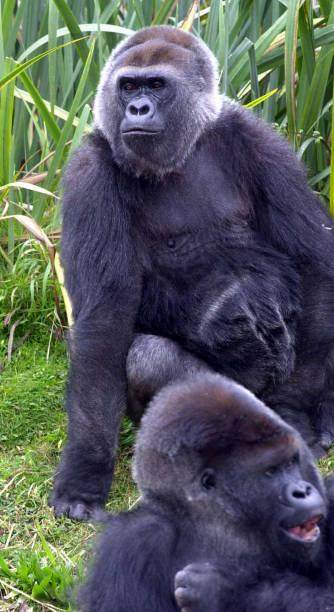gorille_Autres: (8, 4, 334, 397), (47, 375, 334, 612)
